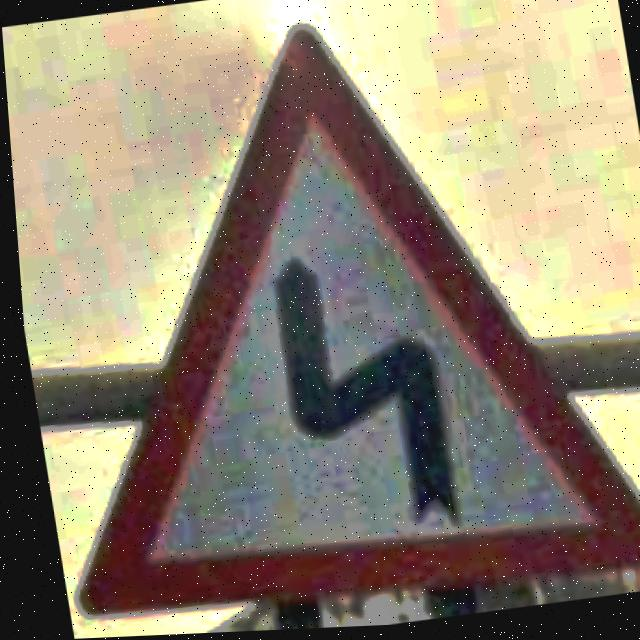doublebendleft: (67, 28, 640, 619)
